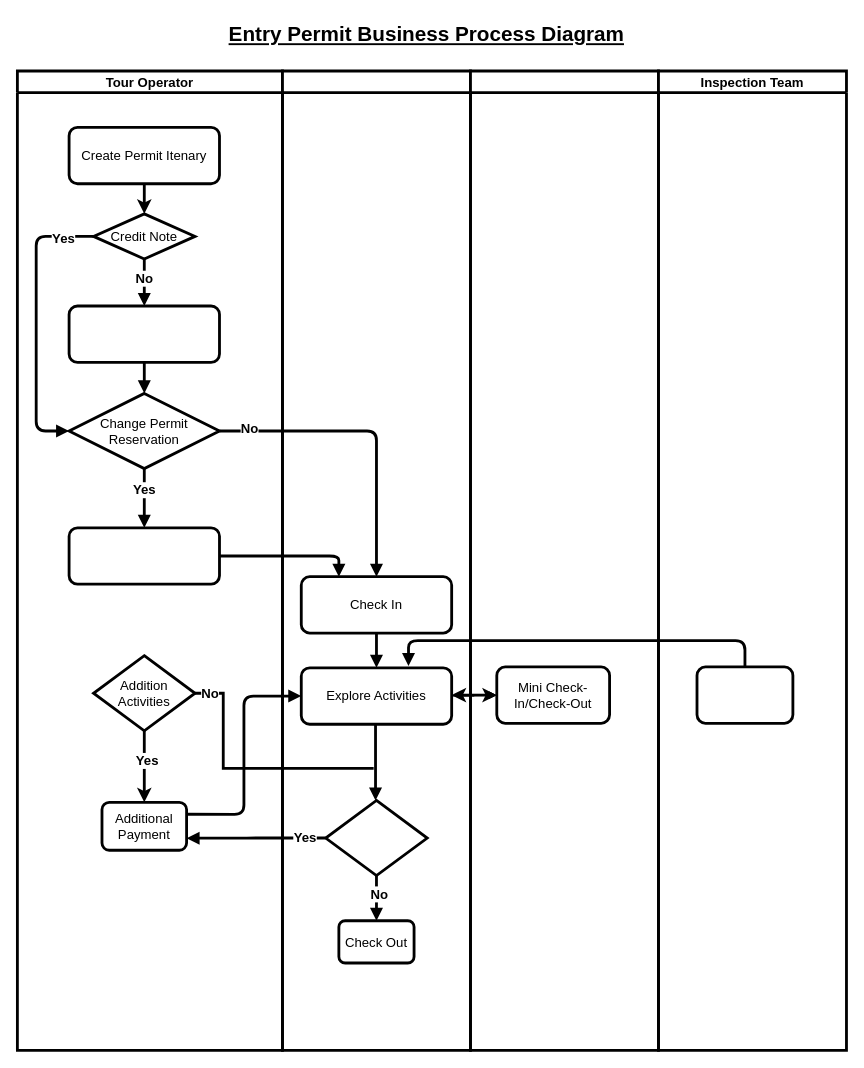
This 864x1068 diagram has some shape labels left out. The shapes that lost their labels are listed below. From the top down, each one's box as (x1, y1, x2, y2) in pixels, then its label:
(67, 304, 220, 363): Payment
(67, 526, 220, 585): Amend Reservation
(281, 69, 471, 1051): Visitor
(469, 69, 659, 1051): Finance/Gate Officer
(695, 665, 794, 724): Inspection
(324, 799, 428, 877): Entry Extension
